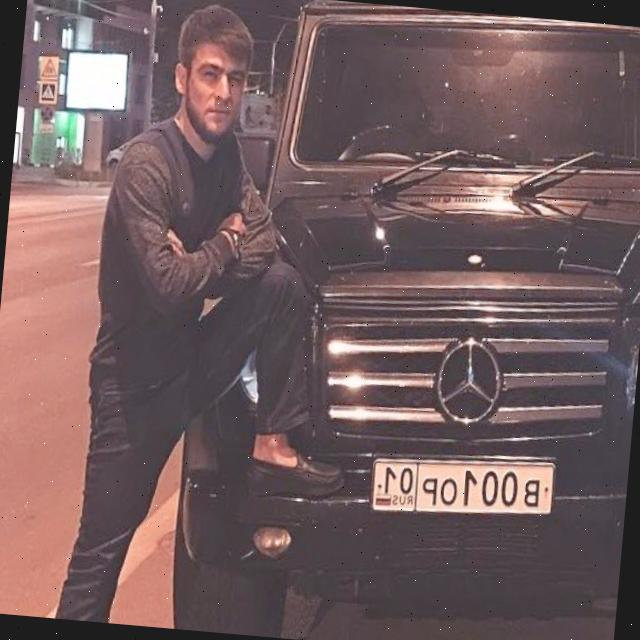number-plates: (368, 442, 558, 535)
